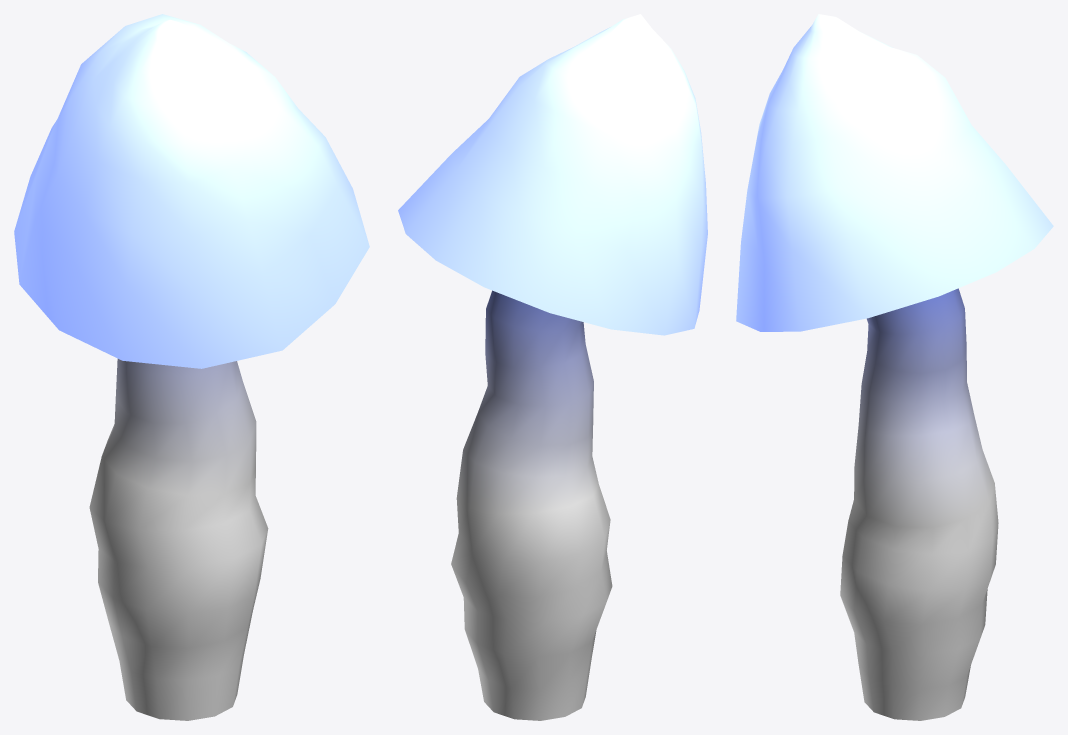
Rendered from mushroom_0.glb.
3 views of the same model, side by side, from view 1: azimuth 30°, elevation 25°; view 2: azimuth 150°, elevation 25°; view 3: azimuth 270°, elevation 25° (orthographic). The views are drawn at different scales.
Visible parts, largest first — view 1: geo1; view 2: geo1; view 3: geo1.
Part boxes in pixels (x1,y1,x2,y2): geo1: (14,14,369,720); geo1: (398,14,707,720); geo1: (736,14,1053,720).
Size of the model in its own units: 0.1397 by 0.3254 by 0.1424.
